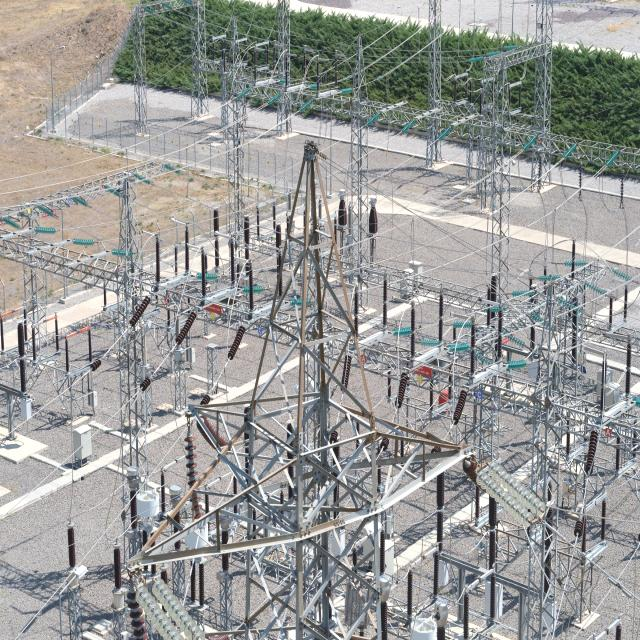voltage_line: (180, 154, 459, 638)
